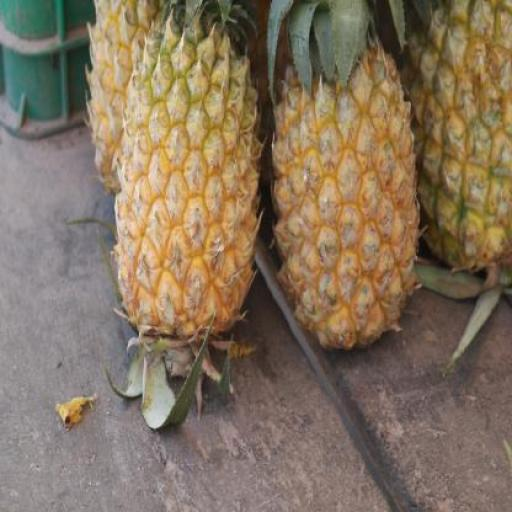------------------------------: (420, 0, 510, 278)
Pineapple - v8 v1: (115, 23, 259, 346), (270, 41, 419, 342), (88, 0, 186, 203)
